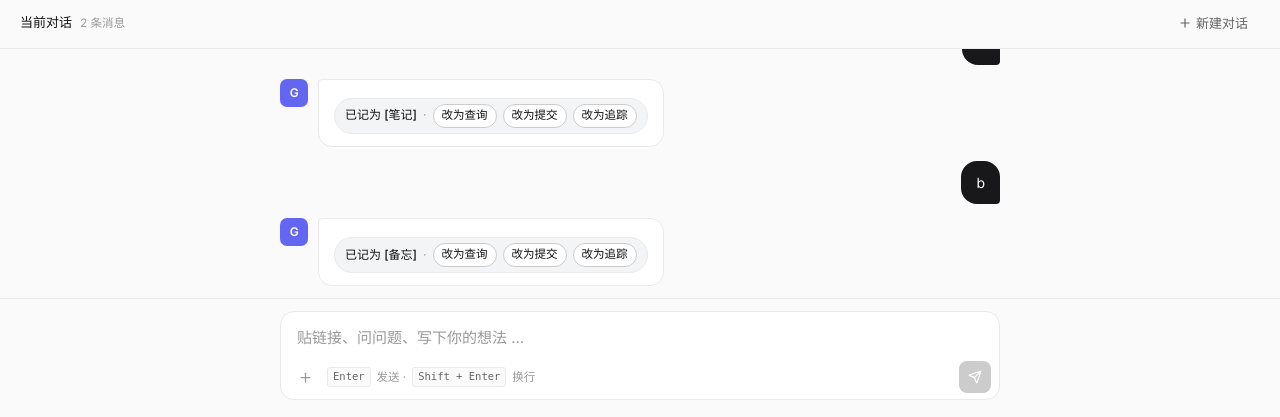
Test: ChatView integration › appends multiple reclassified noteIds without replacing previous
Expected: the number of elements with test id "reclassify-chip-bar" is 2, [334, 98, 648, 134]; [334, 237, 648, 273]
Click the button "改为查询" next to "已记为 [笔记]". click: (464, 116)
box: [432, 104, 496, 128]
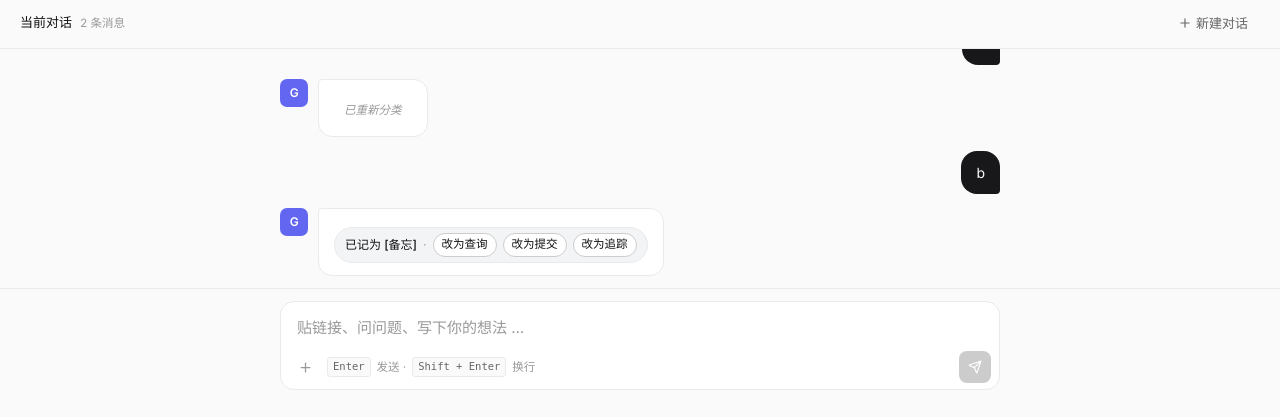
Expected: the number of elements with test id "reclassify-chip-bar" is 1, [334, 227, 648, 263]
Note: Click the remaining ChipBar's "改为查询".
Click the button "改为查询". click: (464, 245)
box: [432, 233, 496, 257]
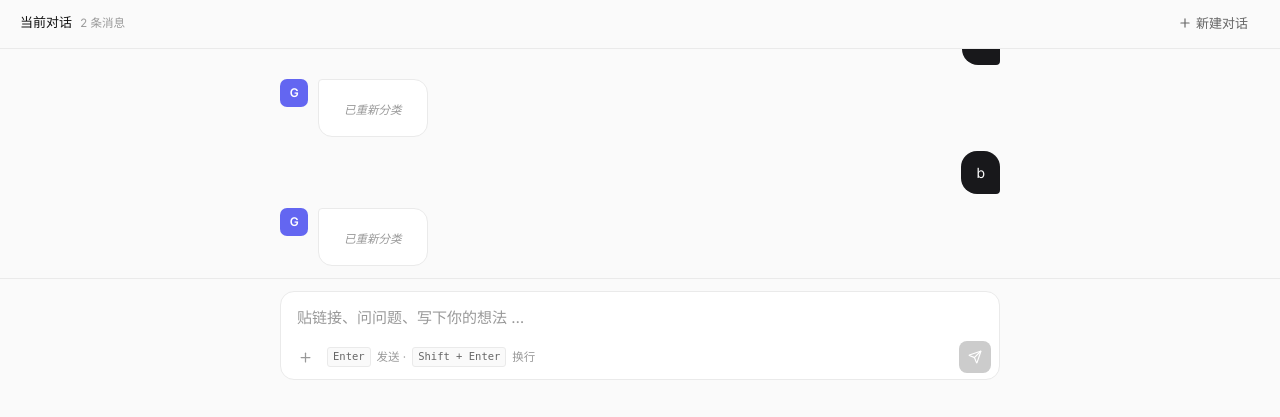
Expected: the element with test id "reclassify-chip-bar" is gone
